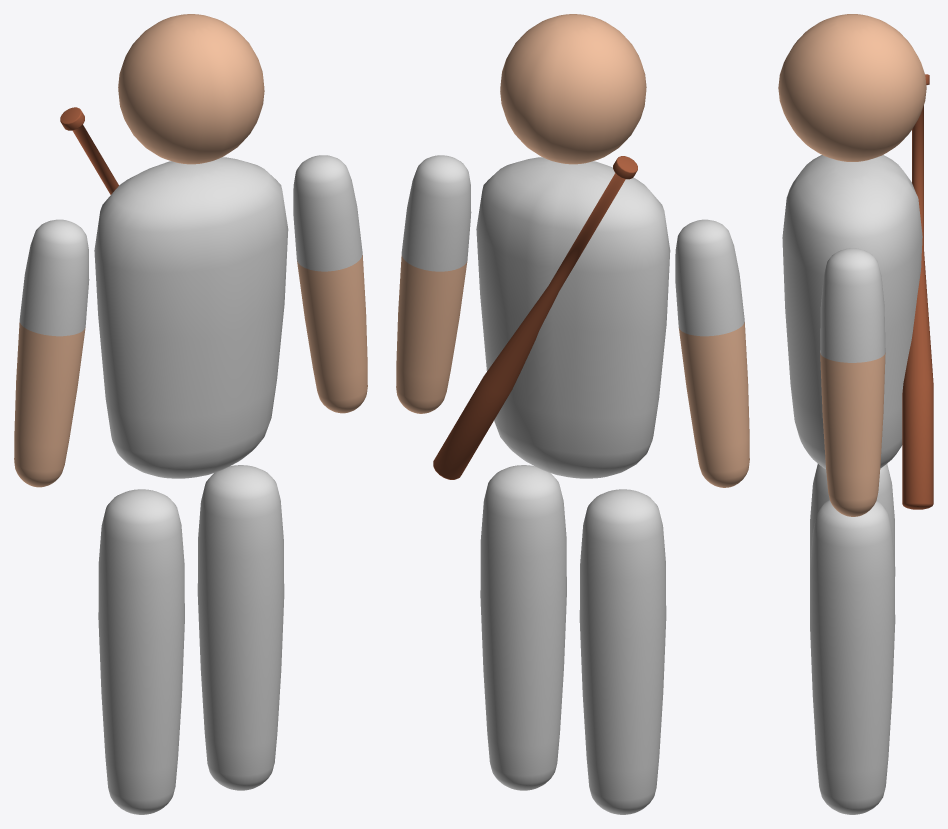
Rendered from Gangsta.fbx.
3 renders of one model, left to right at view 1: azimuth 30°, elevation 25°; view 2: azimuth 150°, elevation 25°; view 3: azimuth 270°, elevation 25°, orthographic.
Parts seen in each view (by area): view 1: Cube; view 2: Cube; view 3: Cube.
Part boxes in pixels (bbox=[...]): Cube: bbox=[14, 14, 367, 814]; Cube: bbox=[396, 14, 749, 814]; Cube: bbox=[778, 14, 933, 814].
Bounding box in the file's own units: 84.7 × 182 × 33.33.
